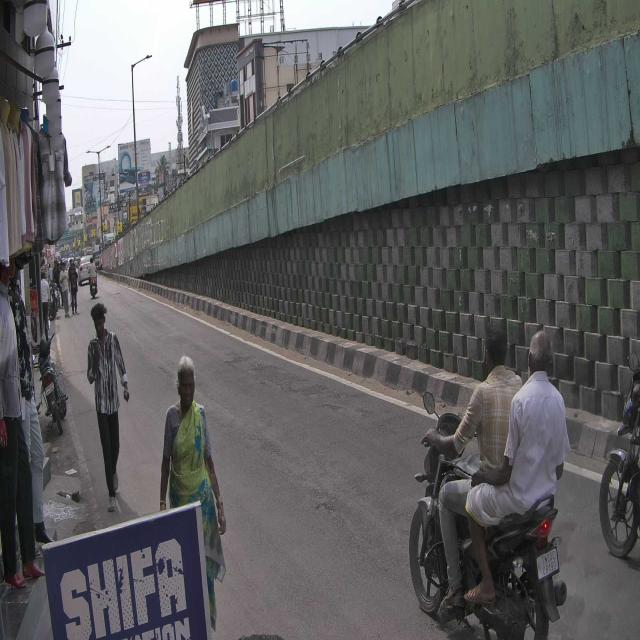double_rider: (408, 326, 570, 640)
